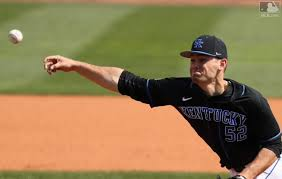baseball: (7, 28, 24, 46)
baseball player: (42, 35, 282, 178)
